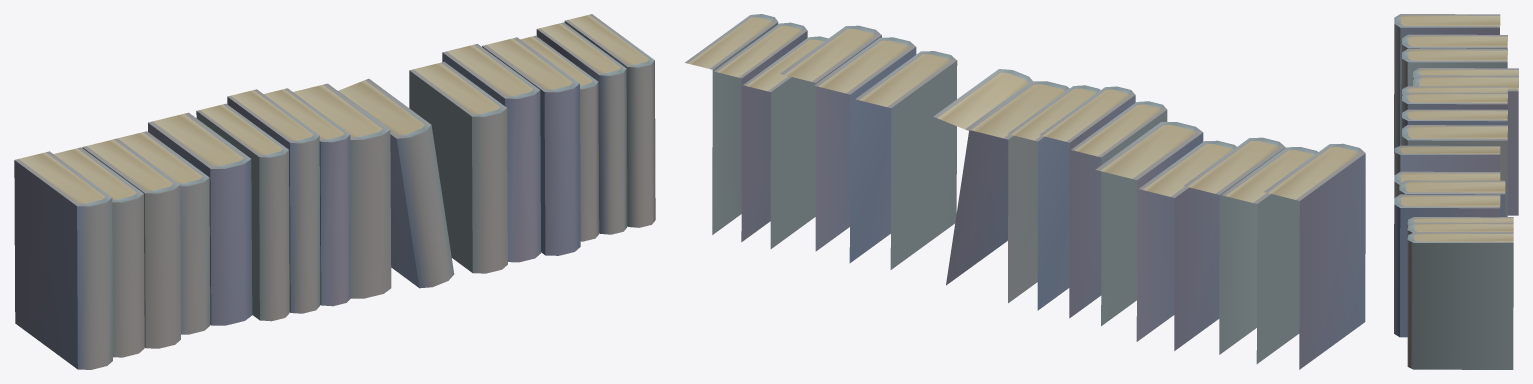
The model's file is BookGroup_Medium_1.glb.
3 views of the same model, side by side, from view 1: azimuth 30°, elevation 25°; view 2: azimuth 150°, elevation 25°; view 3: azimuth 270°, elevation 25° (orthographic). The views are drawn at different scales.
Parts seen in each view (by area): view 1: BookGroup_Medium_1; view 2: BookGroup_Medium_1; view 3: BookGroup_Medium_1.
Boxes of the visible parts, bbox=[...] form: BookGroup_Medium_1: bbox=[14, 14, 655, 369]; BookGroup_Medium_1: bbox=[685, 14, 1365, 369]; BookGroup_Medium_1: bbox=[1394, 14, 1518, 369].
Bounding box in the file's own units: 1.06 × 0.2983 × 0.2475.
